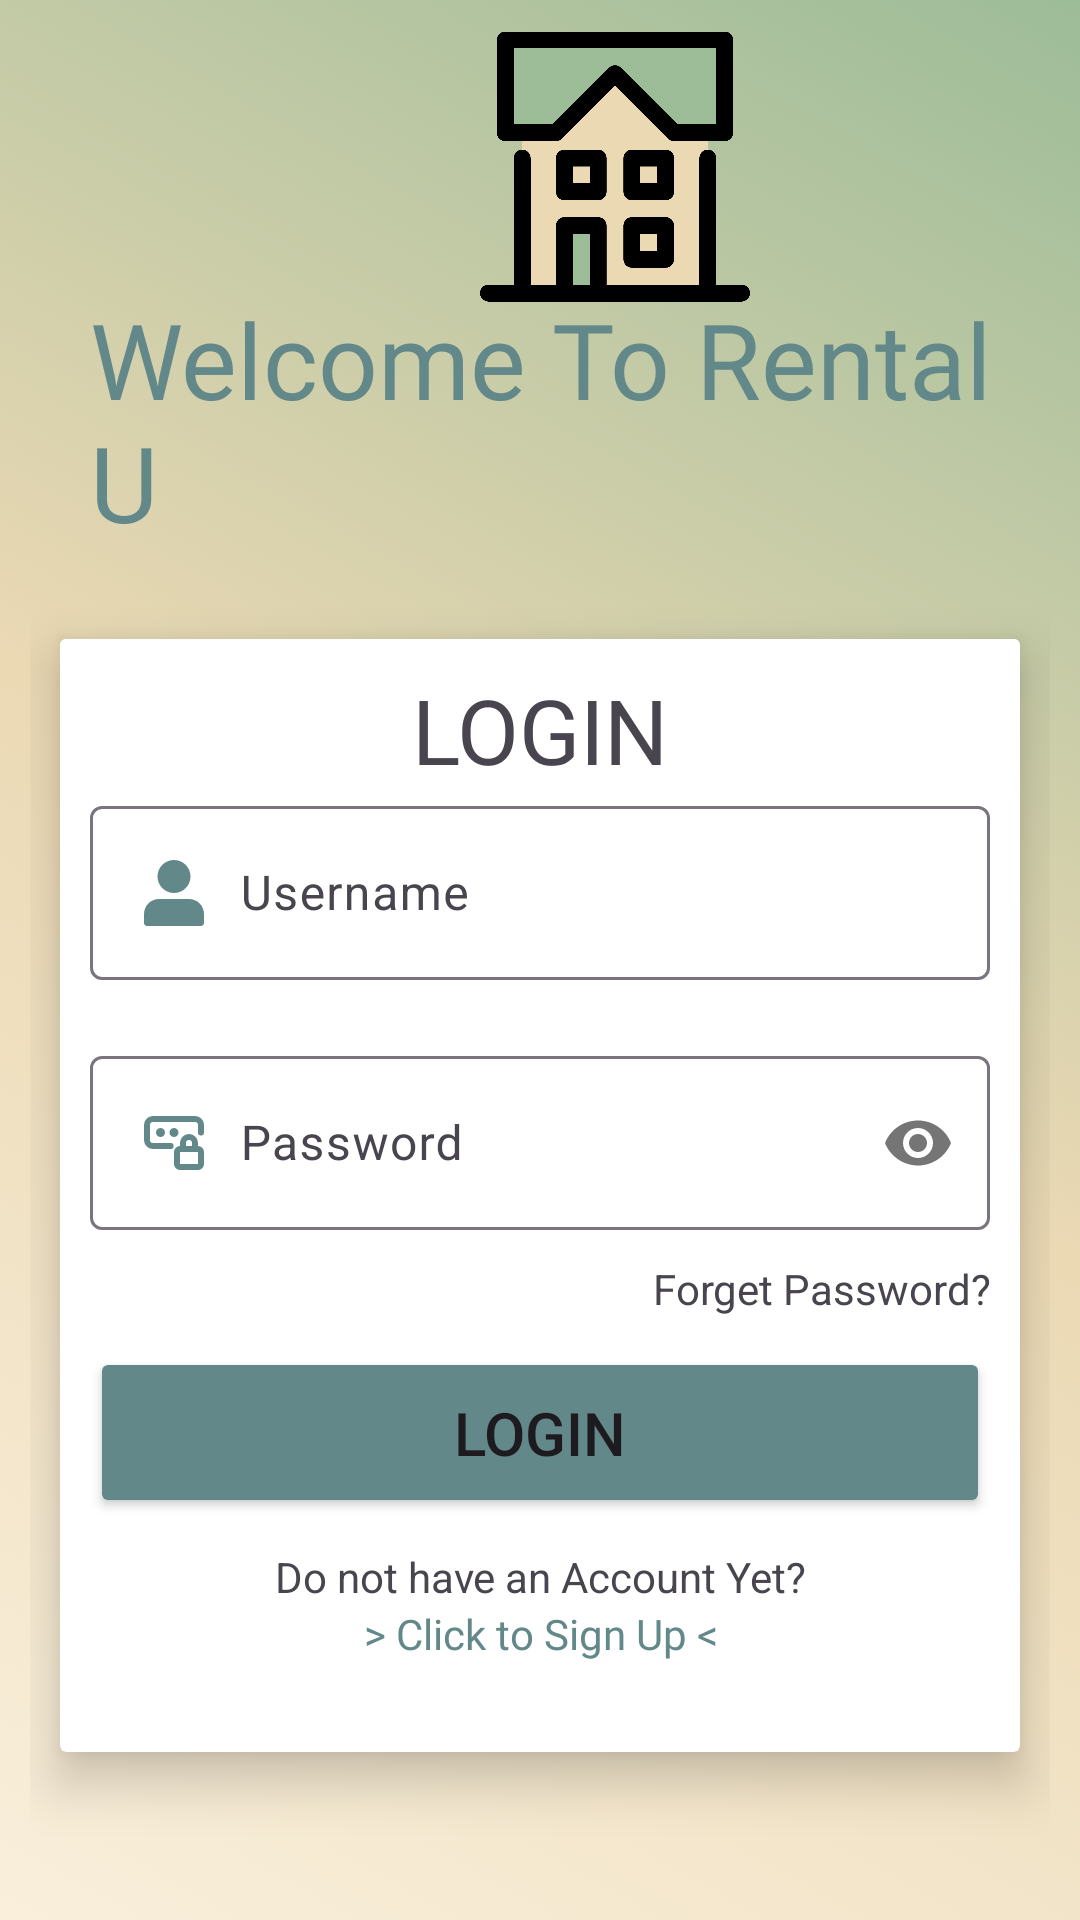

Named icons in this screenshot (1080 x 1920) and their bounding boxes, (x1, y1, x2, y2):
house: (480, 32, 750, 303)
